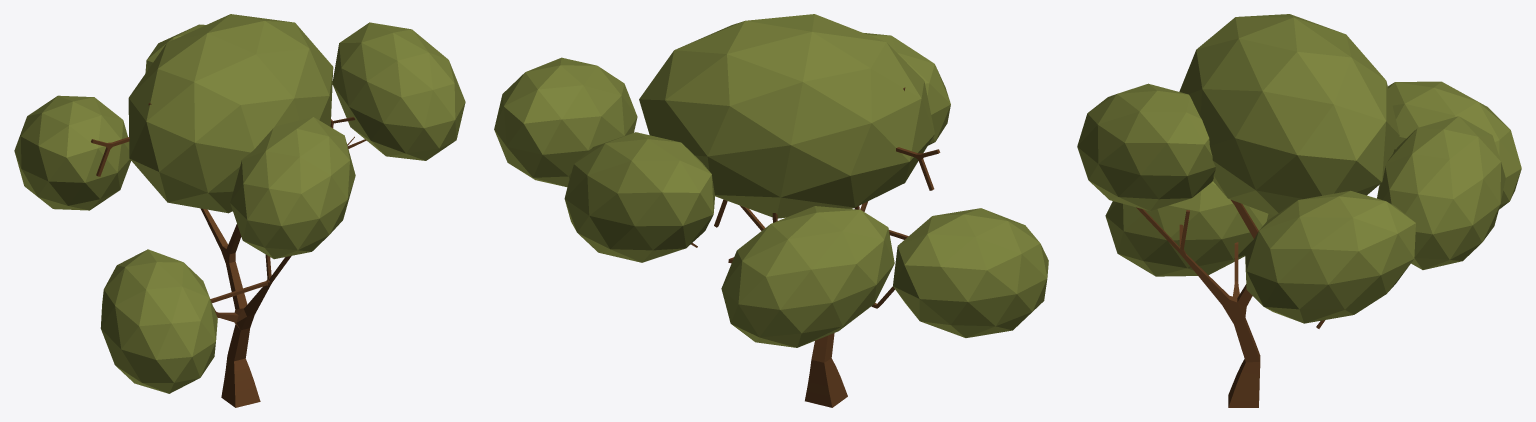
The model's file is tree05.fbx.
The picture shows the model from 3 angles, left to right: view 1: azimuth 30°, elevation 25°; view 2: azimuth 150°, elevation 25°; view 3: azimuth 270°, elevation 25°; orthographic projection. The views are drawn at different scales.
Parts seen in each view (by area): view 1: ecoluagac; view 2: ecoluagac; view 3: ecoluagac.
Boxes of the visible parts, left/top/right/bottom form: ecoluagac: left=14, top=14, right=465, bottom=407; ecoluagac: left=494, top=14, right=1048, bottom=407; ecoluagac: left=1077, top=14, right=1521, bottom=407.
Bounding box in the file's own units: 3.09 × 2.54 × 2.71.
